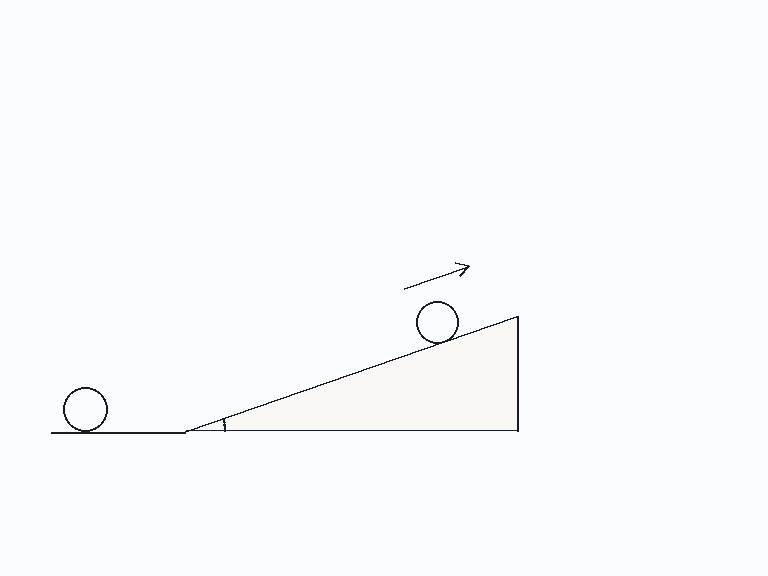ball: (61, 385, 109, 433), (414, 299, 460, 345)
ramp: (183, 315, 519, 433)
